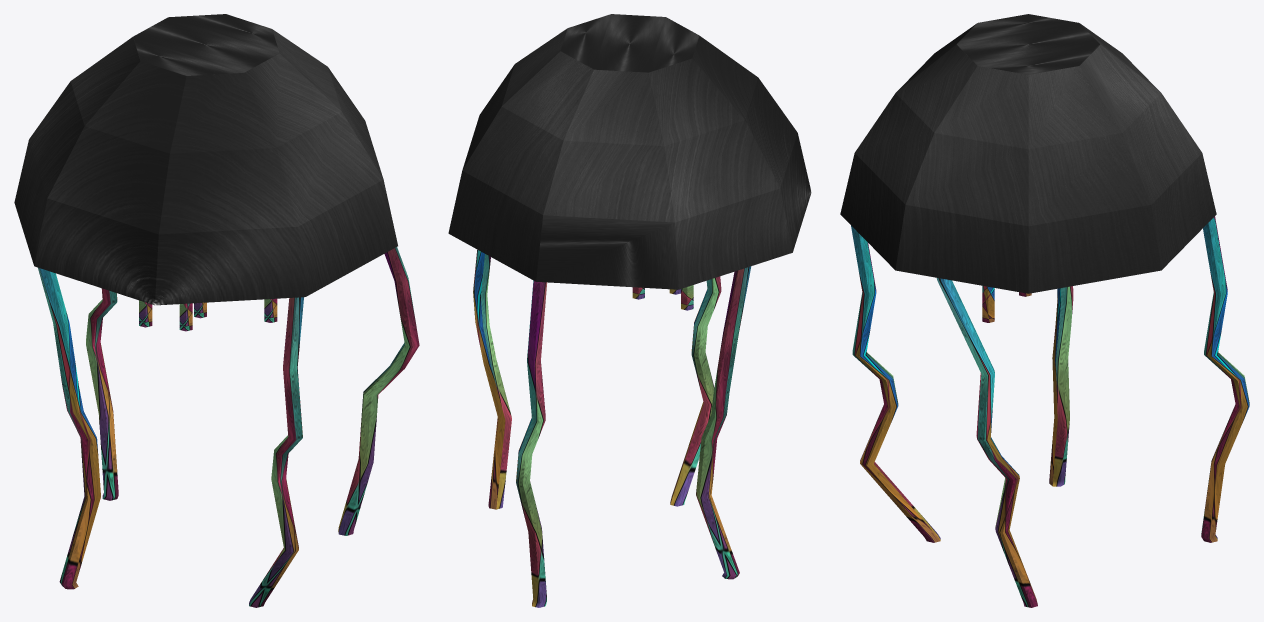
The model's file is glassmetalsculptureoutside.fbx.
3 renders of one model, left to right at view 1: azimuth 30°, elevation 25°; view 2: azimuth 150°, elevation 25°; view 3: azimuth 270°, elevation 25°, orthographic. The views are drawn at different scales.
Visible parts, largest first — view 1: metal_dome, plass_pole3, plass_pole2, plass_pole1, plass_pole4; view 2: metal_dome, plass_pole3, plass_pole4, plass_pole1, plass_pole2; view 3: metal_dome, plass_pole1, plass_pole2, plass_pole4, plass_pole3.
Part boxes in pixels (box(x1,y1,x2,y2)): metal_dome: box(14, 14, 397, 305); plass_pole3: box(38, 267, 100, 589); plass_pole2: box(249, 297, 303, 607); plass_pole1: box(338, 247, 419, 535); plass_pole4: box(86, 288, 118, 500); metal_dome: box(448, 14, 811, 289); plass_pole3: box(696, 266, 751, 579); plass_pole4: box(516, 280, 547, 607); plass_pole1: box(473, 249, 511, 509); plass_pole2: box(670, 276, 721, 506); metal_dome: box(840, 14, 1216, 293); plass_pole1: box(936, 278, 1037, 607); plass_pole2: box(851, 225, 940, 542); plass_pole4: box(1201, 216, 1249, 542); plass_pole3: box(1049, 286, 1073, 486).
Bounding box in the file's own units: 15.92 × 22.01 × 16.49.
